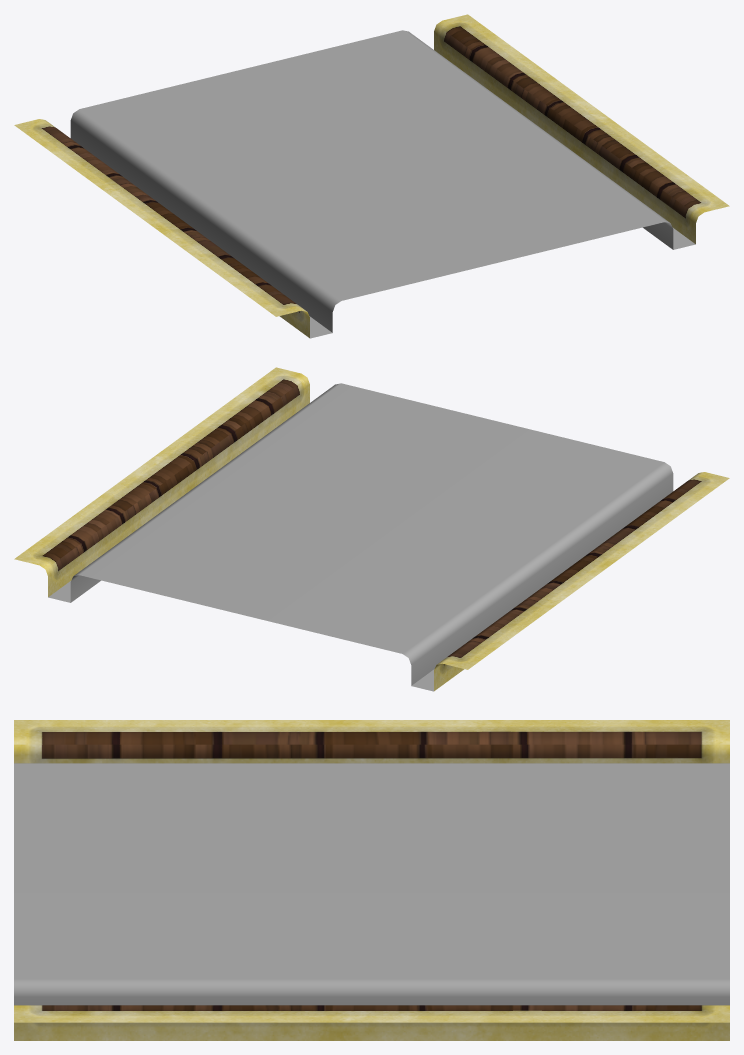
Rendered from Env_Cnt_Conveyor_Straight.fbx.
3 renders of one model, top to bottom at view 1: azimuth 30°, elevation 25°; view 2: azimuth 150°, elevation 25°; view 3: azimuth 270°, elevation 25°, orthographic. The views are drawn at different scales.
Parts seen in each view (by area): view 1: Conveyor_straight; view 2: Conveyor_straight; view 3: Conveyor_straight.
Part boxes in pixels (<box>): Conveyor_straight: <box>14,14,729,338</box>; Conveyor_straight: <box>14,367,729,691</box>; Conveyor_straight: <box>14,720,729,1040</box>.
Bounding box in the file's own units: 100 × 6.31 × 100.
